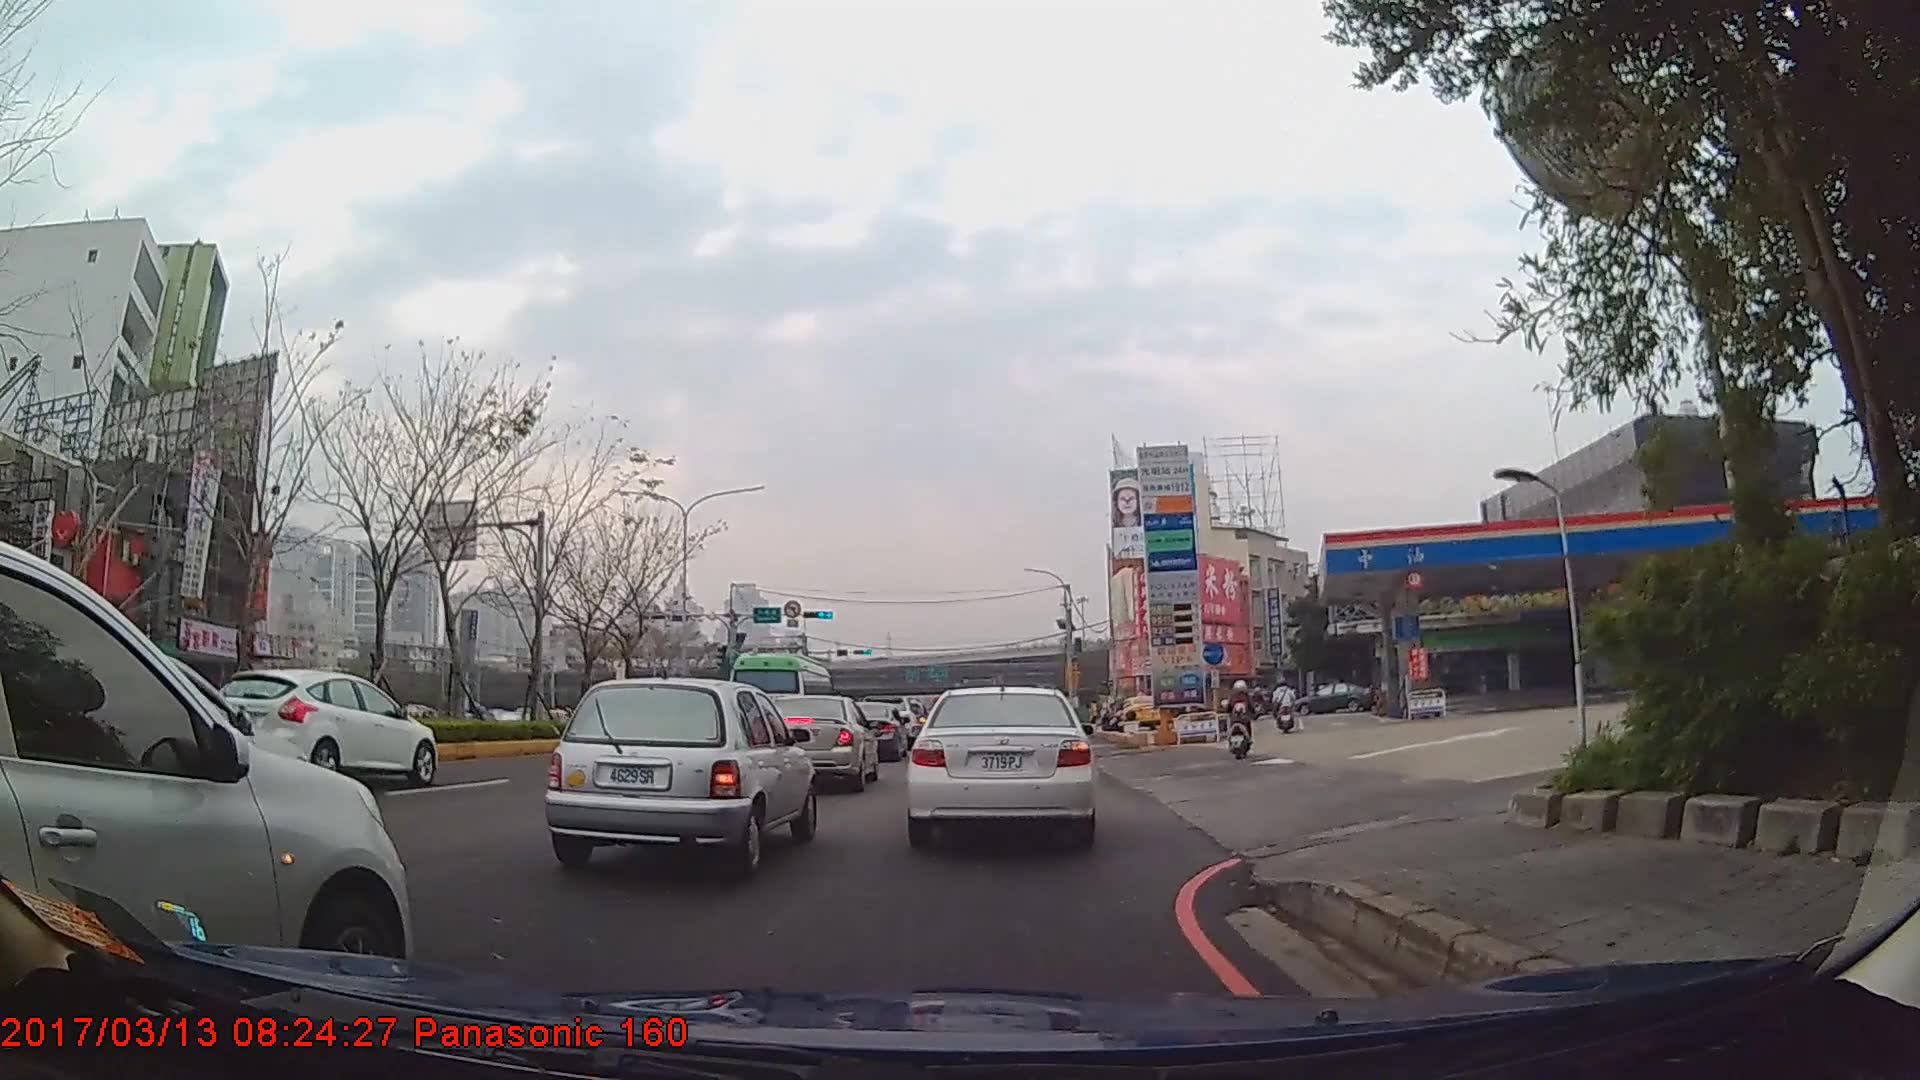rider: (1223, 674, 1256, 756), (1272, 680, 1297, 733)
vehicle: (0, 540, 411, 1010), (542, 672, 817, 876), (908, 683, 1096, 849), (210, 667, 438, 789), (751, 691, 877, 790), (725, 648, 832, 740), (833, 696, 908, 761), (1296, 682, 1374, 715), (1115, 691, 1163, 725)
